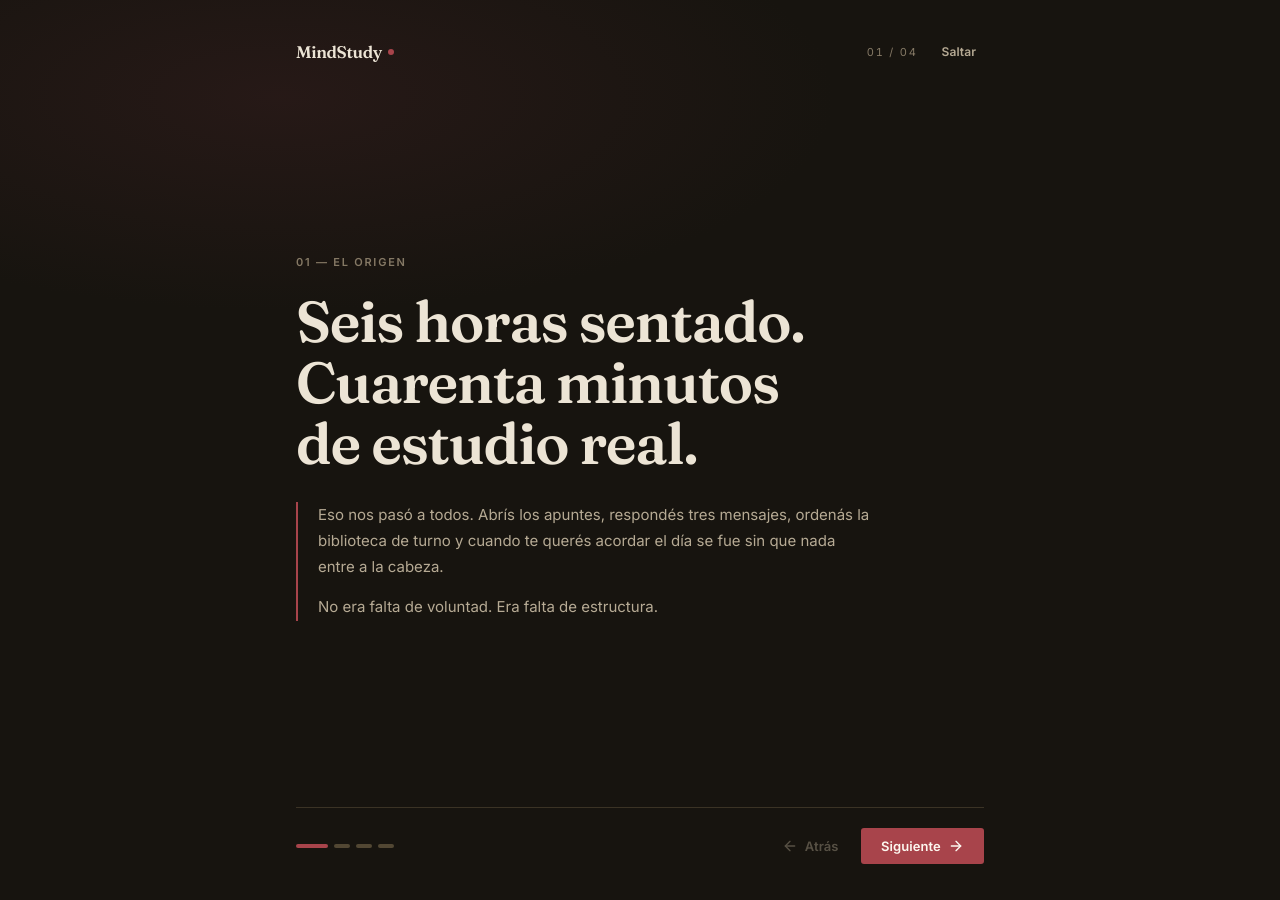
Test: Intro › walks backwards between scenes
The width and height of the screenshot is (1280, 900).
Click the button "Siguiente" at (922, 846), box [861,828,984,864]
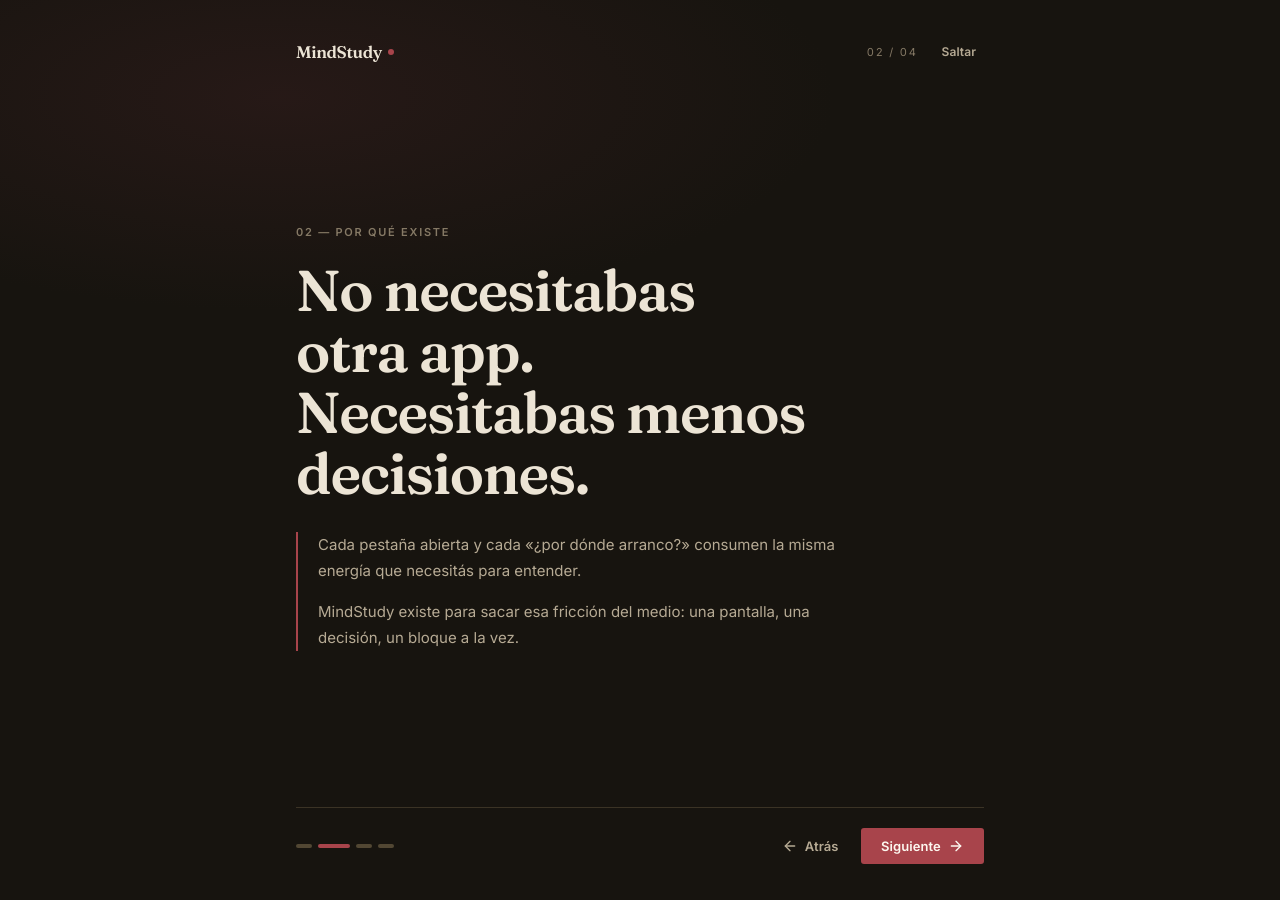
Click the button "Atrás" at (810, 846), box [767,830,853,862]
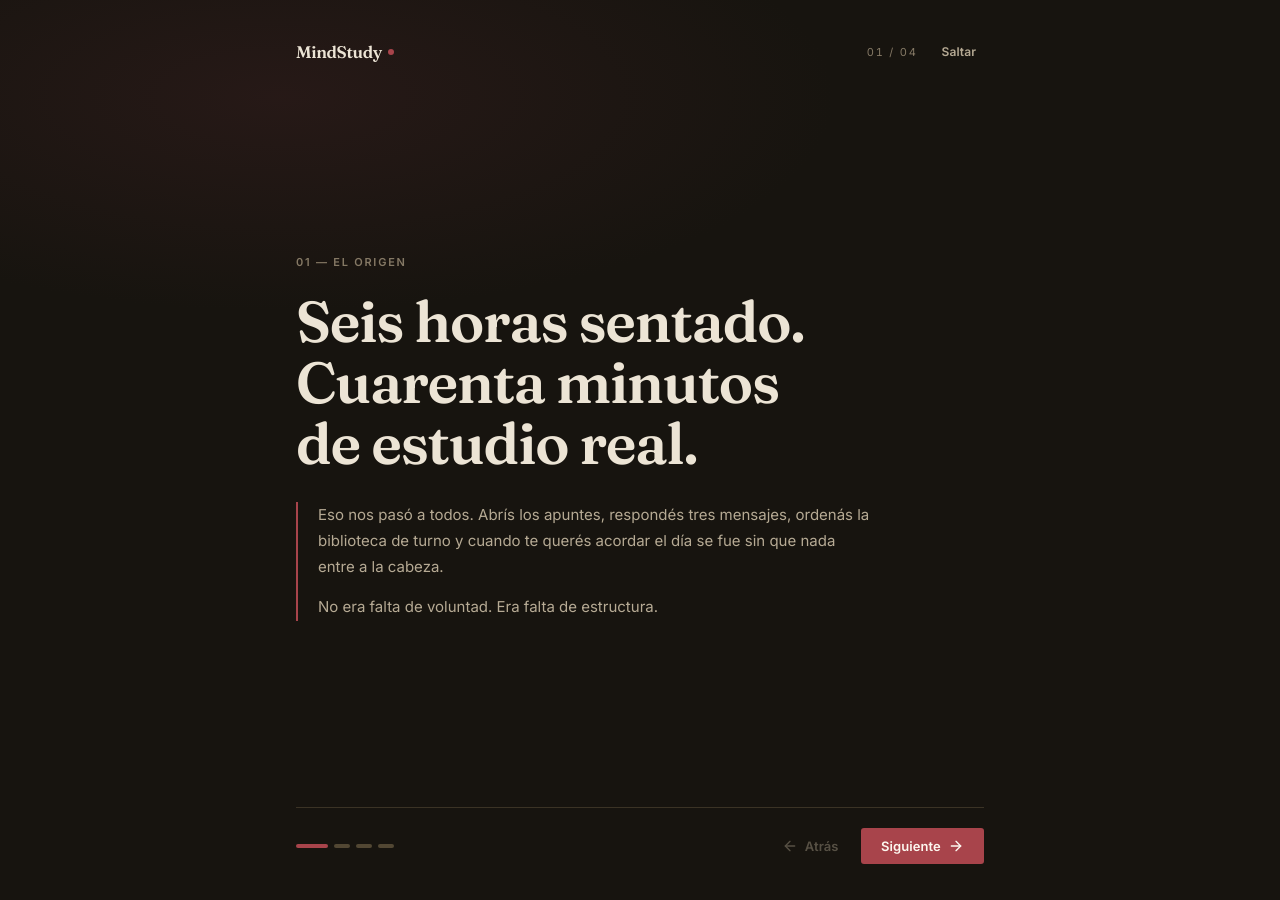
Expected: the text "01 — El origen" is shown, [296,255,407,269]
